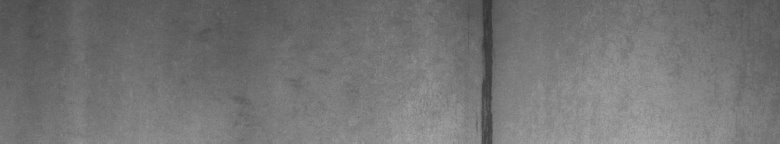hd: (472, 4, 500, 136)
